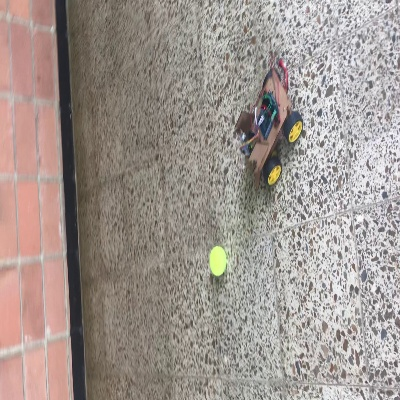Ball: (208, 245, 226, 276)
Robot: (234, 67, 303, 185)
